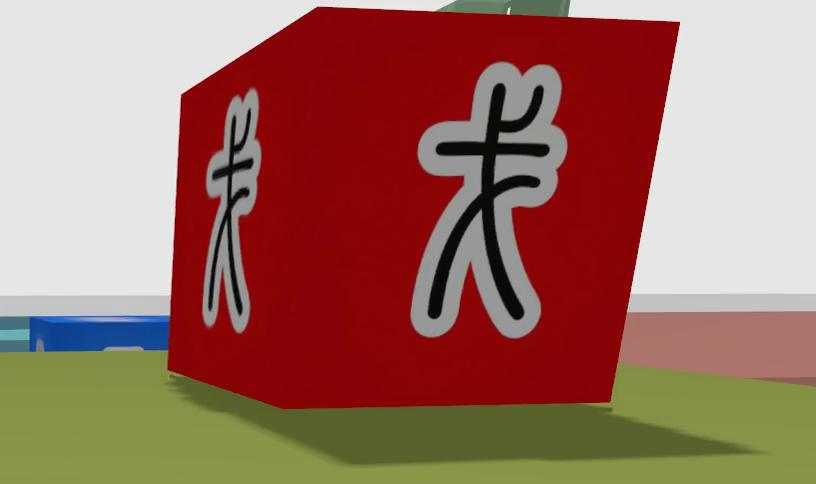KFS_FAKE: (168, 8, 678, 408), (410, 62, 567, 337), (203, 89, 261, 332)
KFS_REAL: (29, 316, 167, 351)
